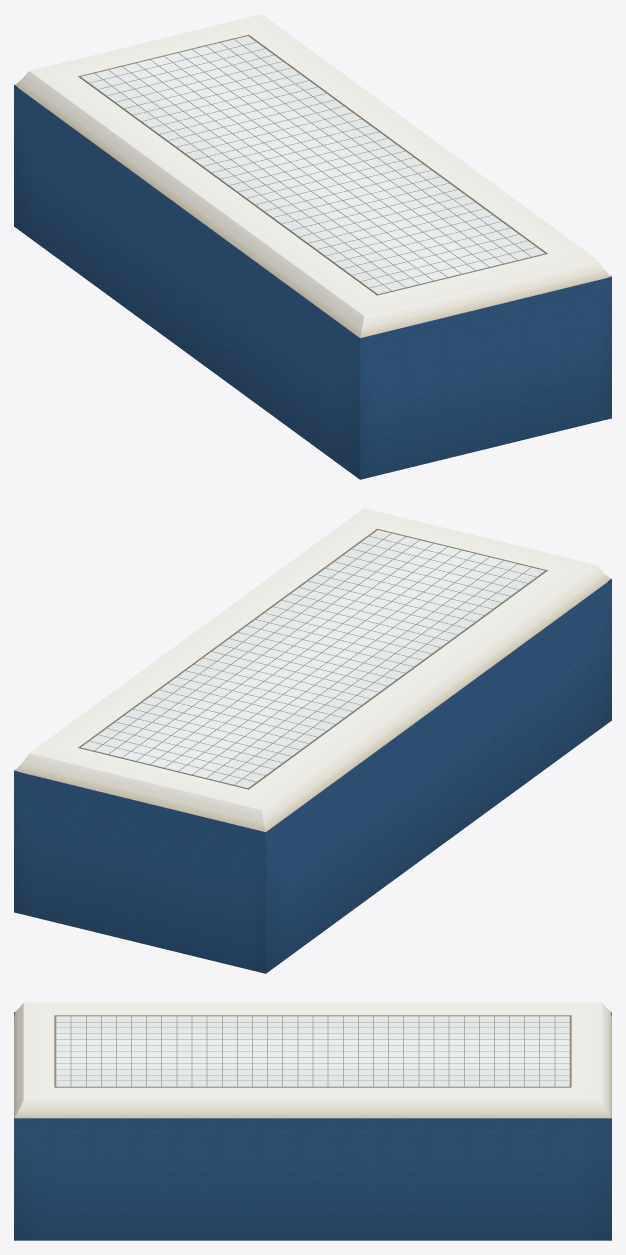
Rendered from salle-des-etats-artdaci-v5-flat.glb.
3 views of the same model, one above another, from view 1: azimuth 30°, elevation 25°; view 2: azimuth 150°, elevation 25°; view 3: azimuth 270°, elevation 25° (orthographic). The views are drawn at different scales.
Visible parts, largest first — view 1: Wall_left_reference, Skylight_reference, Ceiling_reference, Wall_rear_reference, Skylight_grid, Skylight_surround, Cornice_reference; view 2: Wall_left_reference, Skylight_reference, Ceiling_reference, Wall_front_reference, Skylight_grid, Skylight_surround, Cornice_reference; view 3: Wall_right_reference, Skylight_reference, Ceiling_reference, Skylight_grid, Skylight_surround, Cornice_reference.
Part boxes in pixels (x1,y1,x2,y2): Wall_left_reference: [14, 85, 359, 479]; Skylight_reference: [81, 36, 544, 293]; Ceiling_reference: [15, 14, 610, 337]; Wall_rear_reference: [360, 277, 611, 479]; Skylight_grid: [80, 35, 545, 295]; Skylight_surround: [78, 34, 547, 294]; Cornice_reference: [18, 87, 607, 338]; Wall_left_reference: [266, 579, 611, 973]; Skylight_reference: [81, 530, 544, 787]; Ceiling_reference: [15, 508, 610, 831]; Wall_front_reference: [14, 771, 265, 973]; Skylight_grid: [80, 529, 545, 789]; Skylight_surround: [78, 528, 547, 788]; Cornice_reference: [18, 581, 607, 832]; Wall_right_reference: [14, 1118, 611, 1240]; Skylight_reference: [56, 1016, 569, 1086]; Ceiling_reference: [14, 1002, 611, 1117]; Skylight_grid: [55, 1016, 570, 1087]; Skylight_surround: [54, 1015, 571, 1087]; Cornice_reference: [14, 1016, 611, 1118].
Size of the model in its own units: 12.1 by 7.22 by 28.8.
4 materials, 3 textured.
